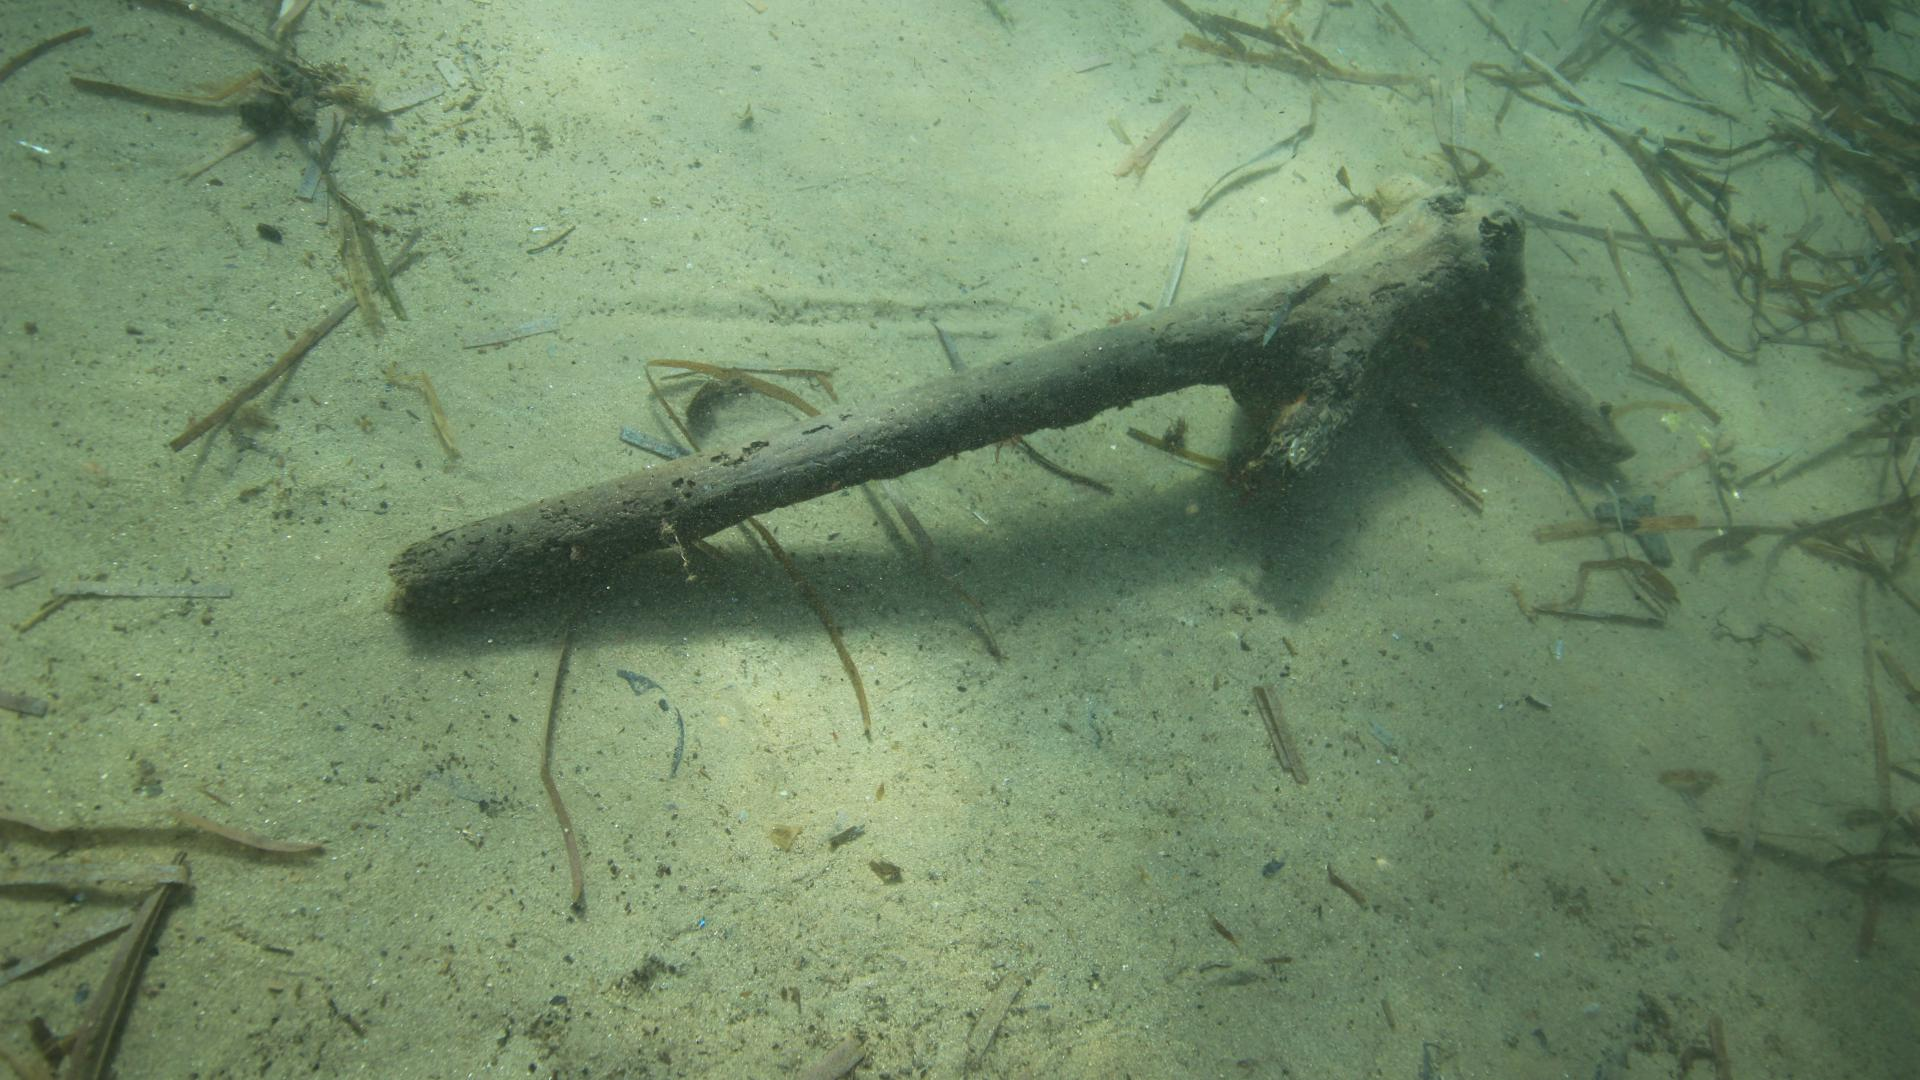wood: (388, 169, 1633, 618)
